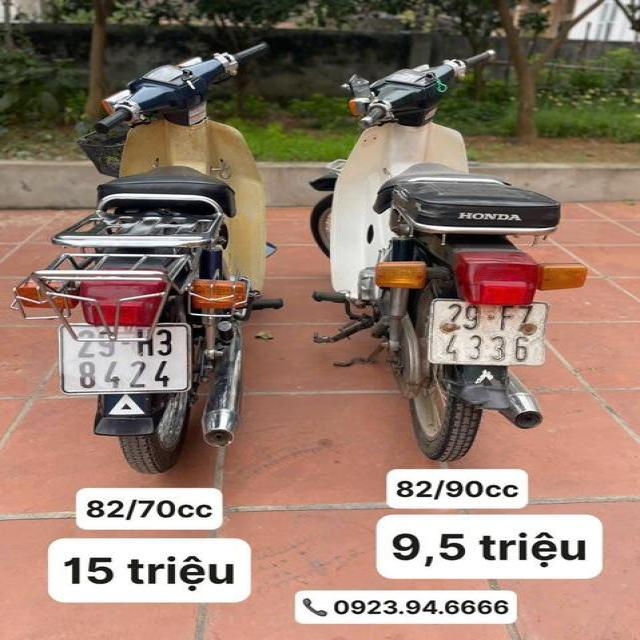motorcycle: (3, 30, 292, 480), (303, 41, 590, 463)
plate: (51, 320, 196, 398), (421, 294, 554, 370)
